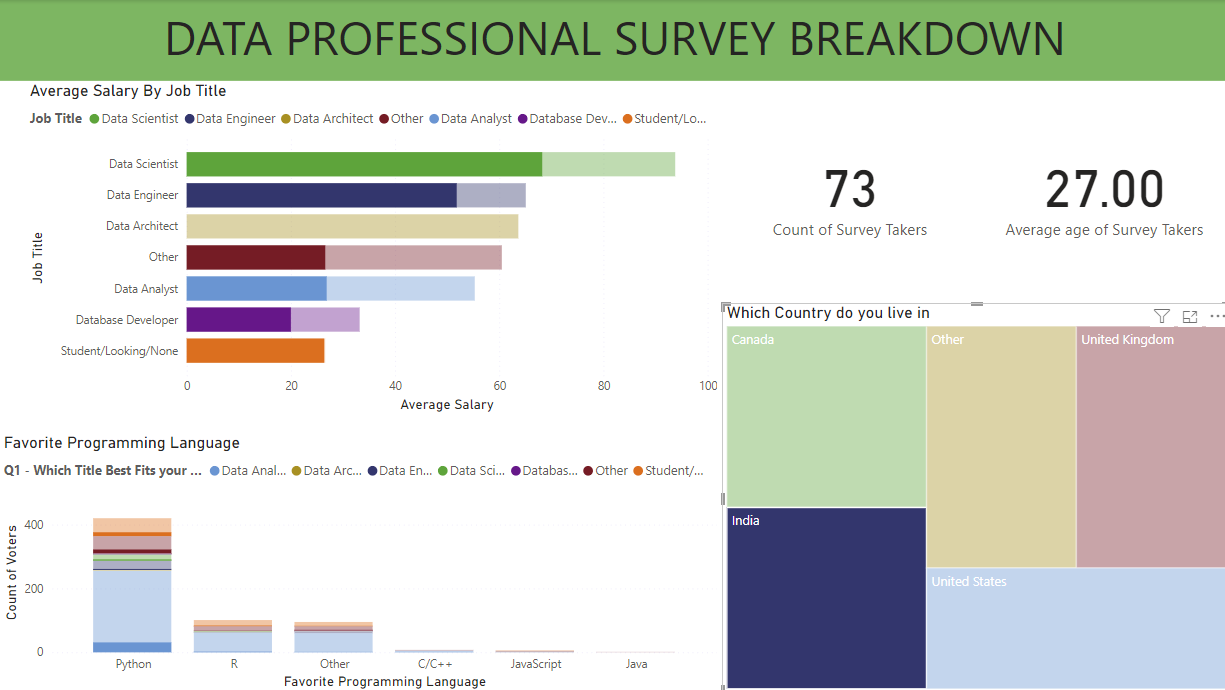

Layout of this report page (visuals, bound fields, positions):
{"tool":"powerbi","page":{"name":"Page 1","canvas":[1280,720],"ordinal":0},"visuals":[{"type":"textbox","box":[0,0,1280,84.1],"z":0},{"type":"card","fields":{"Values":["Count(Data Professional Survey.Unique ID)"]},"box":[751.2,84.2,266,230.6],"z":1000},{"type":"card","fields":{"Values":["Avg(Data Professional Survey.Q10 - Current Age)"]},"box":[1017.1,84.2,262.9,230.6],"z":2000},{"type":"barChart","title":"Average Salary By Job Title","fields":{"Category":["Data Professional Survey.Q1 - Which Title Best Fits your Current Role?.1"],"Y":["Avg(Data Professional Survey.Average Salary)"],"Series":["Data Professional Survey.Q1 - Which Title Best Fits your Current Role?.1"]},"box":[26.9,84.2,724.2,348.6],"z":3000},{"type":"columnChart","title":"Favorite Programming Language","fields":{"Category":["Data Professional Survey.Q5 - Favorite Programming Language.1"],"Y":["CountNonNull(Data Professional Survey.Unique ID)"],"Series":["Data Professional Survey.Q1 - Which Title Best Fits your Current Role?.1"]},"box":[0,449.7,751.2,271.2],"z":4000},{"type":"treemap","title":"Which Country do you live in","fields":{"Group":["Data Professional Survey.Q11 - Which Country do you live in?.1"],"Values":["Count(Data Professional Survey.Q11 - Which Country do you live in?.1)"]},"box":[751.2,314.9,528.8,405.9],"z":5000}]}

Visuals, with their boxes in screenshot pixels (x1, y1, x2, y2), scaled from the page's 1280x720 canvas onto the 1225x690 screenshot:
textbox: x1=0 y1=0 x2=1224 y2=81
card - Count(Data Professional Survey.Unique ID): x1=719 y1=81 x2=973 y2=302
card - Avg(Data Professional Survey.Q10 - Current Age): x1=973 y1=81 x2=1224 y2=302
"Average Salary By Job Title" barChart: x1=26 y1=81 x2=719 y2=415
"Favorite Programming Language" columnChart: x1=0 y1=431 x2=719 y2=689
"Which Country do you live in" treemap: x1=719 y1=302 x2=1224 y2=689
